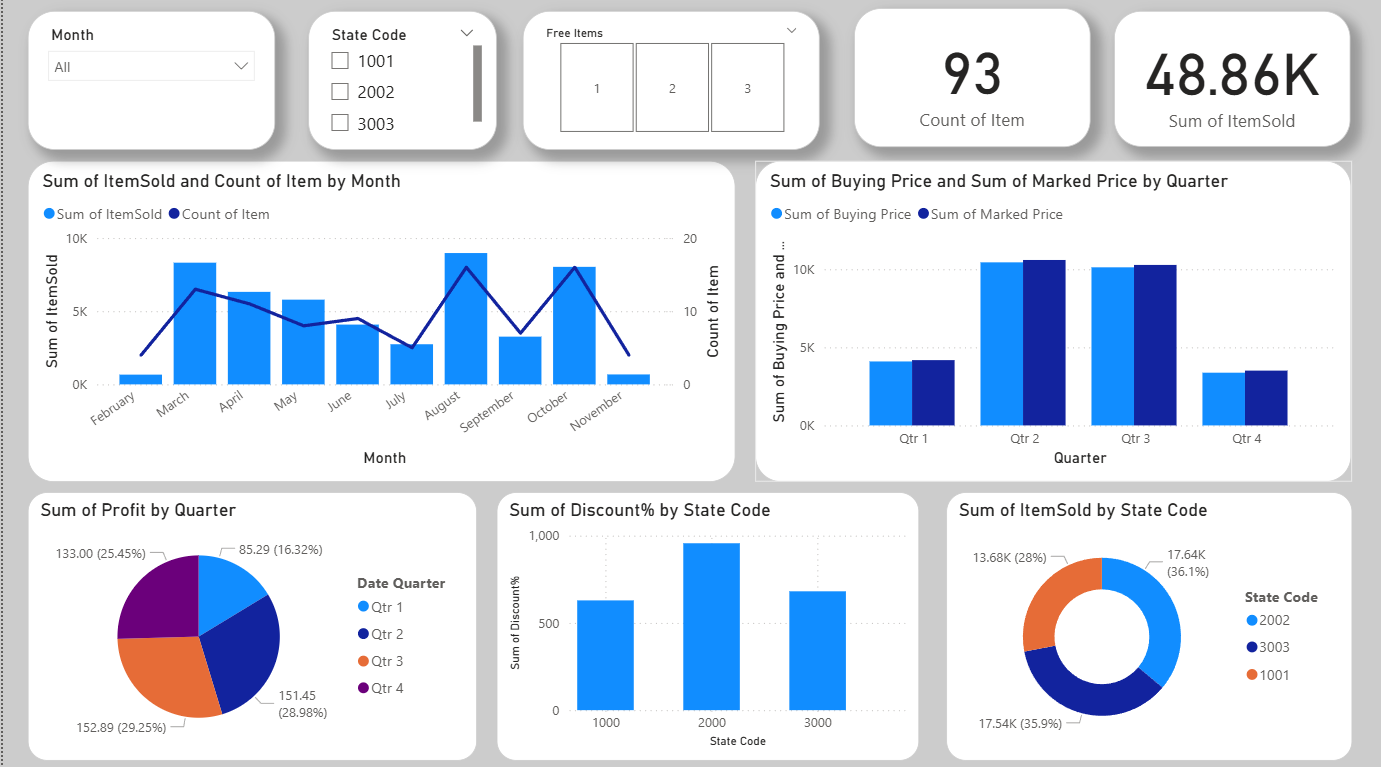

What the dashboard file says about the page in this screenshot:
{"tool":"powerbi","page":{"name":"Page 1","canvas":[1280,720],"ordinal":0},"visuals":[{"type":"lineClusteredColumnComboChart","fields":{"Category":["Store Data.Date.Variation.Date Hierarchy.Month"],"Y2":["CountNonNull(Store Data.Item)"],"Y":["Sum(Store Data.ItemSold/Measure)"]},"box":[22.3,155,655,297.5],"z":0},{"type":"clusteredColumnChart","fields":{"Category":["Store Data.State Code"],"Y":["Sum(Store Data.Discount%)"]},"box":[456.7,462.3,391.1,248.6],"z":1000},{"type":"pieChart","fields":{"Category":["Store Data.Date.Variation.Date Hierarchy.Quarter"],"Y":["Sum(Store Data.Profit)"]},"box":[22.3,462.3,416.2,248.6],"z":2000},{"type":"card","fields":{"Values":["Sum(Store Data.ItemSold/Measure)"]},"box":[1029.3,16.8,219.3,125.7],"z":3000},{"type":"slicer","fields":{"Values":["Store Data.Date.Variation.Date Hierarchy.Month"]},"box":[22.3,16.8,229,128.5],"z":4000},{"type":"card","fields":{"Values":["CountNonNull(Store Data.Item)"]},"box":[787.7,14,219.3,128.5],"z":5000},{"type":"slicer","fields":{"Values":["Store Data.Free Items"]},"box":[481.8,16.8,275.1,128.5],"z":6000},{"type":"slicer","fields":{"Values":["Store Data.State Code"]},"box":[282.1,16.8,174.6,128.5],"z":7000},{"type":"clusteredColumnChart","fields":{"Y":["Sum(Store Data.$ Buying Price (For store))","Sum(Store Data.$ Marked Price (For Store))"],"Category":["Store Data.Date.Variation.Date Hierarchy.Quarter"]},"box":[696.9,155,551.7,297.5],"z":8000},{"type":"donutChart","fields":{"Category":["Store Data.State Code"],"Y":["Sum(Store Data.ItemSold/Measure)"]},"box":[873,462,376,249],"z":9000}]}

Visuals, with their boxes in screenshot pixels (x1, y1, x2, y2), scaled from the page's 1280x720 canvas onto the 1381x767 screenshot:
lineClusteredColumnComboChart - Store Data.Date.Variation.Date Hierarchy.Month x CountNonNull(Store Data.Item): pyautogui.locateOnScreen(24, 165, 731, 482)
clusteredColumnChart - Store Data.State Code x Sum(Store Data.Discount%): pyautogui.locateOnScreen(493, 492, 915, 757)
pieChart - Store Data.Date.Variation.Date Hierarchy.Quarter x Sum(Store Data.Profit): pyautogui.locateOnScreen(24, 492, 473, 757)
card - Sum(Store Data.ItemSold/Measure): pyautogui.locateOnScreen(1111, 18, 1347, 152)
slicer - Store Data.Date.Variation.Date Hierarchy.Month: pyautogui.locateOnScreen(24, 18, 271, 155)
card - CountNonNull(Store Data.Item): pyautogui.locateOnScreen(850, 15, 1086, 152)
slicer - Store Data.Free Items: pyautogui.locateOnScreen(520, 18, 817, 155)
slicer - Store Data.State Code: pyautogui.locateOnScreen(304, 18, 493, 155)
clusteredColumnChart - Sum(Store Data.$ Buying Price (For store)) x Sum(Store Data.$ Marked Price (For Store)): pyautogui.locateOnScreen(752, 165, 1347, 482)
donutChart - Store Data.State Code x Sum(Store Data.ItemSold/Measure): pyautogui.locateOnScreen(942, 492, 1348, 757)
